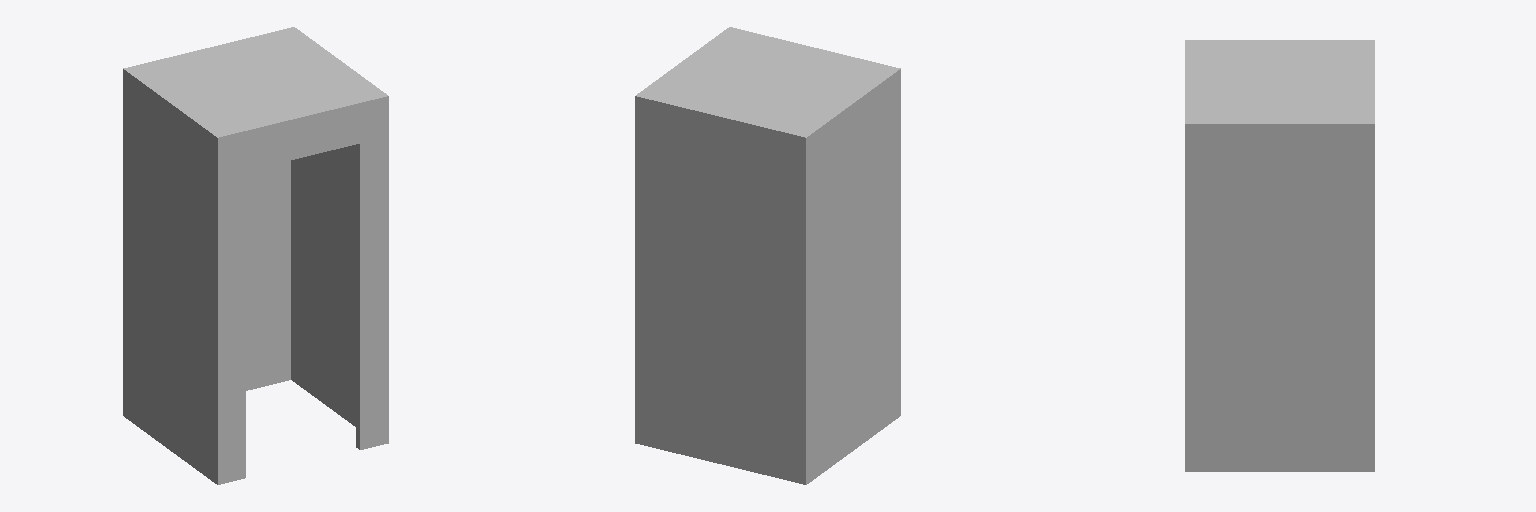
The model's file is orangebox.obj.
The picture shows the model from 3 angles: view 1: azimuth 30°, elevation 25°; view 2: azimuth 150°, elevation 25°; view 3: azimuth 270°, elevation 25°; orthographic projection.
Parts seen in each view (by area): view 1: Cube_Cube.002; view 2: Cube_Cube.002; view 3: Cube_Cube.002.
Part boxes in pixels (x1,y1,x2,y2): Cube_Cube.002: (123, 27, 388, 484); Cube_Cube.002: (635, 27, 900, 484); Cube_Cube.002: (1185, 40, 1374, 471).
Bounding box in the file's own units: 2.22 × 4.29 × 2.12.